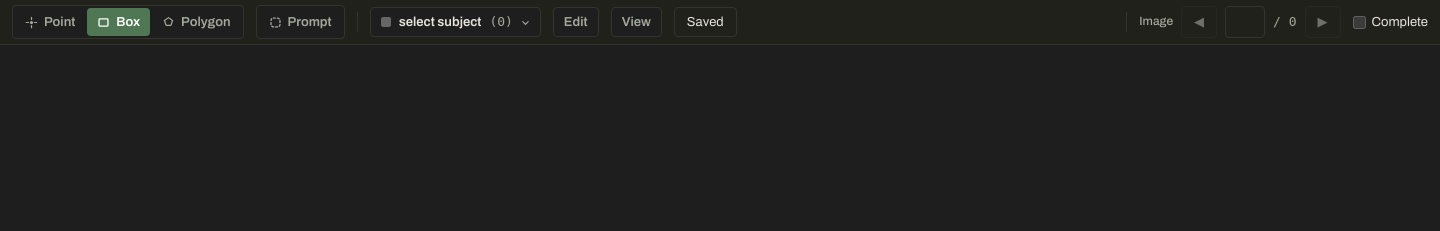
Test: AnnotateToolbar draw mode › Snap and Stream stay polygon-only in point mode (they have no meaning for a point)
Step 1. Click the button "Point" → (50, 22), box [15,8,85,36]
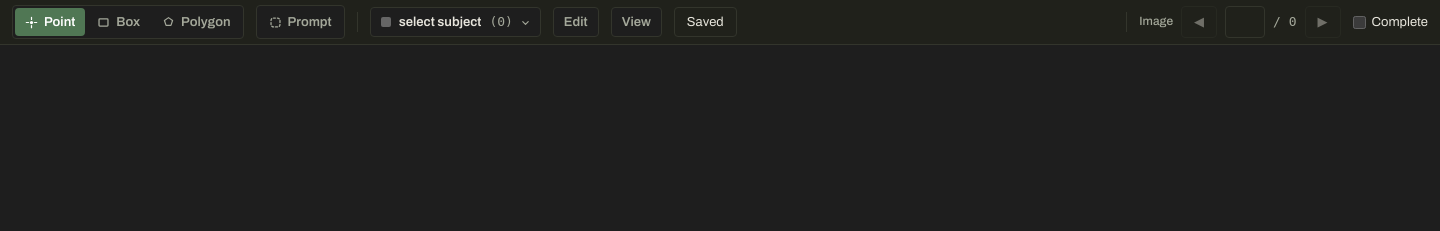
Step 2. Click the button "Edit" → (576, 22), box [553,7,599,37]
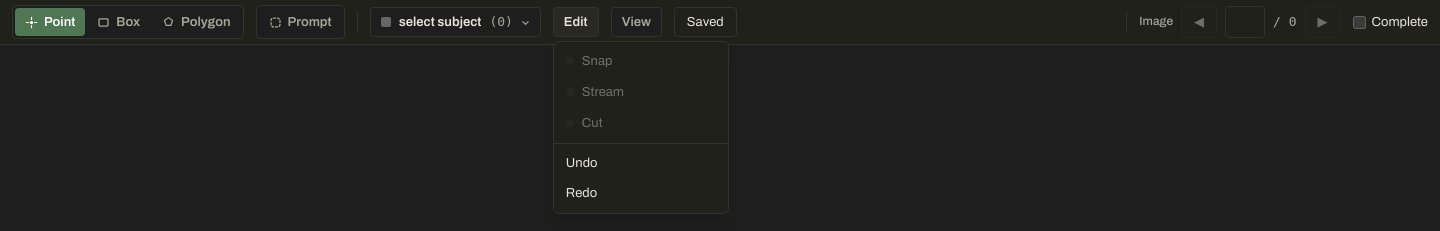
Now the menu item "Snap" is disabled, box [554,46,728,77]
Now the menu item "Stream" is disabled, box [554,77,728,108]
